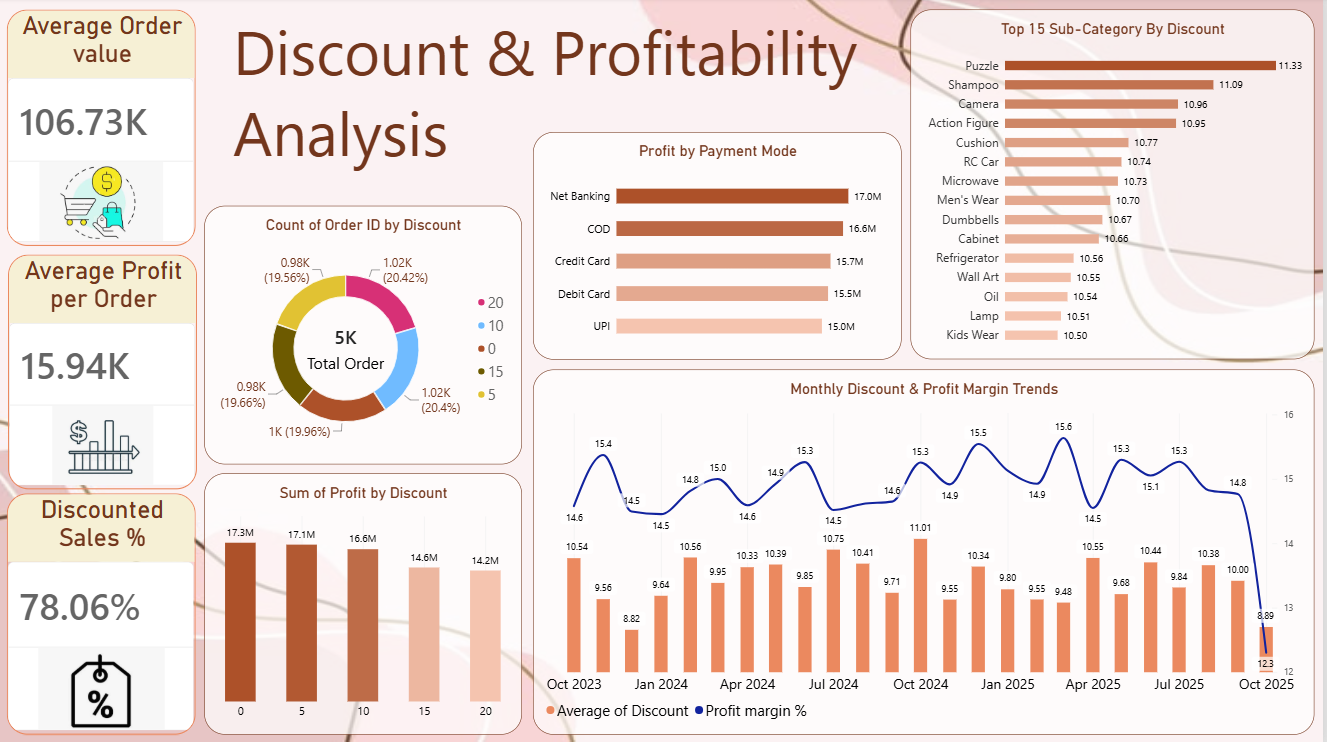

The dashboard page shown, as its layout file describes it:
{"tool":"powerbi","page":{"name":"Page 2","canvas":[1920,1080],"ordinal":1},"visuals":[{"type":"cardVisual","title":"Average Profit per Order","fields":{"Data":["cleaned_sales_data.Average Profit per Order"]},"box":[14.5,372.8,273.3,340.2],"z":0},{"type":"cardVisual","title":"Discounted Sales %","fields":{"Data":["cleaned_sales_data.Discounted Sales %"]},"box":[12.7,718.4,273.3,349.3],"z":1000},{"type":"clusteredBarChart","title":"Top 15 Sub-Category By Discount","fields":{"Category":["cleaned_sales_data.Sub-Category"],"Y":["Avg(cleaned_sales_data.Discount)"]},"box":[1321.1,18.1,584.5,506.7],"z":2000},{"type":"clusteredColumnChart","fields":{"Category":["cleaned_sales_data.Discount"],"Y":["Sum(cleaned_sales_data.Profit)"]},"box":[298.6,689.5,459.7,378.2],"z":2001},{"type":"lineStackedColumnComboChart","title":"Monthly Discount & Profit Margin Trends","fields":{"Category":["cleaned_sales_data.Order Month"],"Y":["Avg(cleaned_sales_data.Discount)"],"Y2":["cleaned_sales_data.Profit margin %"]},"box":[774.5,539.3,1131,528.4],"z":2002},{"type":"donutChart","fields":{"Category":["cleaned_sales_data.Discount"],"Y":["CountNonNull(cleaned_sales_data.Order ID)"]},"box":[298.6,302.2,459.7,374.6],"z":2003},{"type":"clusteredBarChart","title":" Profit by Payment Mode","fields":{"Category":["cleaned_sales_data.Payment Mode"],"Y":["Sum(cleaned_sales_data.Profit)"]},"box":[774.5,195.4,533.8,329.4],"z":2004},{"type":"cardVisual","title":"Average Order value","fields":{"Data":["cleaned_sales_data.AVG OV"]},"box":[12.7,18.1,273.3,342],"z":2005},{"type":"textbox","box":[340.2,18.1,921.1,284.1],"z":2006}]}

Visuals, with their boxes in screenshot pixels (x1, y1, x2, y2), scaled from the page's 1920x1080 canvas onto the 1327x742 screenshot:
"Average Profit per Order" cardVisual: pyautogui.locateOnScreen(10, 256, 199, 490)
"Discounted Sales %" cardVisual: pyautogui.locateOnScreen(9, 494, 198, 734)
"Top 15 Sub-Category By Discount" clusteredBarChart: pyautogui.locateOnScreen(913, 12, 1317, 361)
clusteredColumnChart - cleaned_sales_data.Discount x Sum(cleaned_sales_data.Profit): pyautogui.locateOnScreen(206, 474, 524, 734)
"Monthly Discount & Profit Margin Trends" lineStackedColumnComboChart: pyautogui.locateOnScreen(535, 371, 1317, 734)
donutChart - cleaned_sales_data.Discount x CountNonNull(cleaned_sales_data.Order ID): pyautogui.locateOnScreen(206, 208, 524, 465)
" Profit by Payment Mode" clusteredBarChart: pyautogui.locateOnScreen(535, 134, 904, 361)
"Average Order value" cardVisual: pyautogui.locateOnScreen(9, 12, 198, 247)
textbox: pyautogui.locateOnScreen(235, 12, 872, 208)
